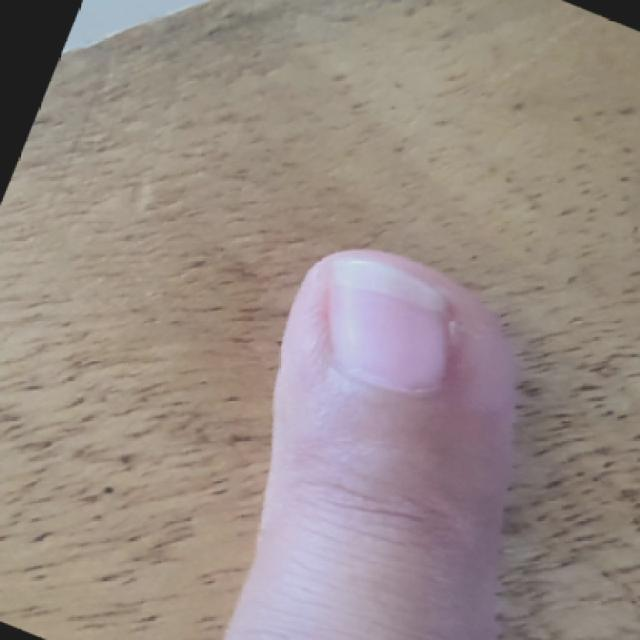Nail: (328, 257, 452, 388)
